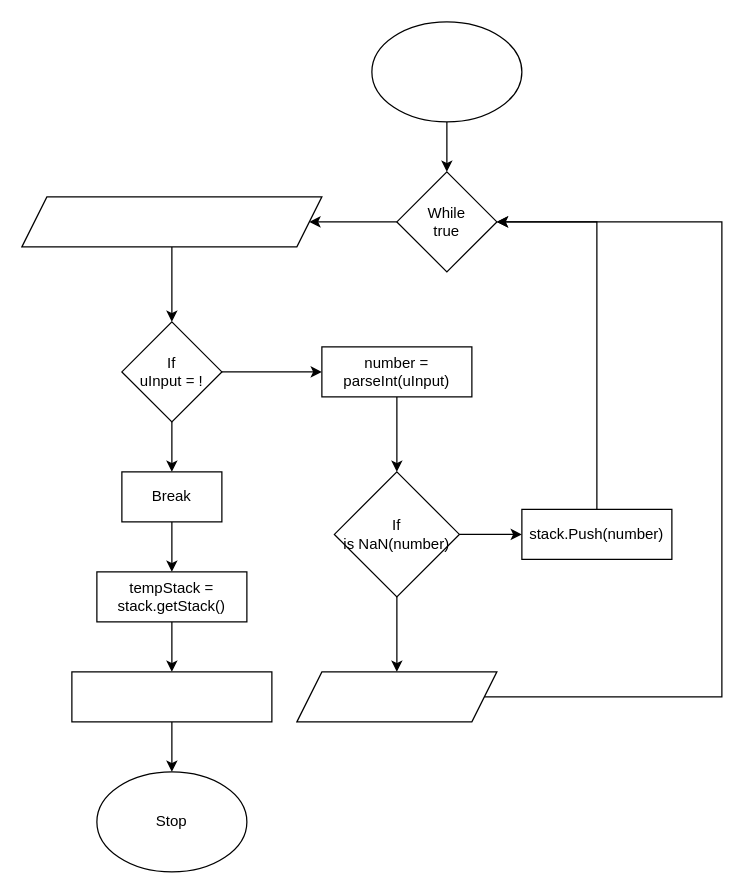
This 754x894 diagram has some shape labels left out. The centre of each missing label's shape, as x and y in pixels:
"Get uInput(Enter a number (! to leave): )" belongs at pixel 171 221.
"Print(uInput isn't number)" belongs at pixel 396 696.
"Return tempStack" belongs at pixel 171 696.
"Start" belongs at pixel 446 71.
